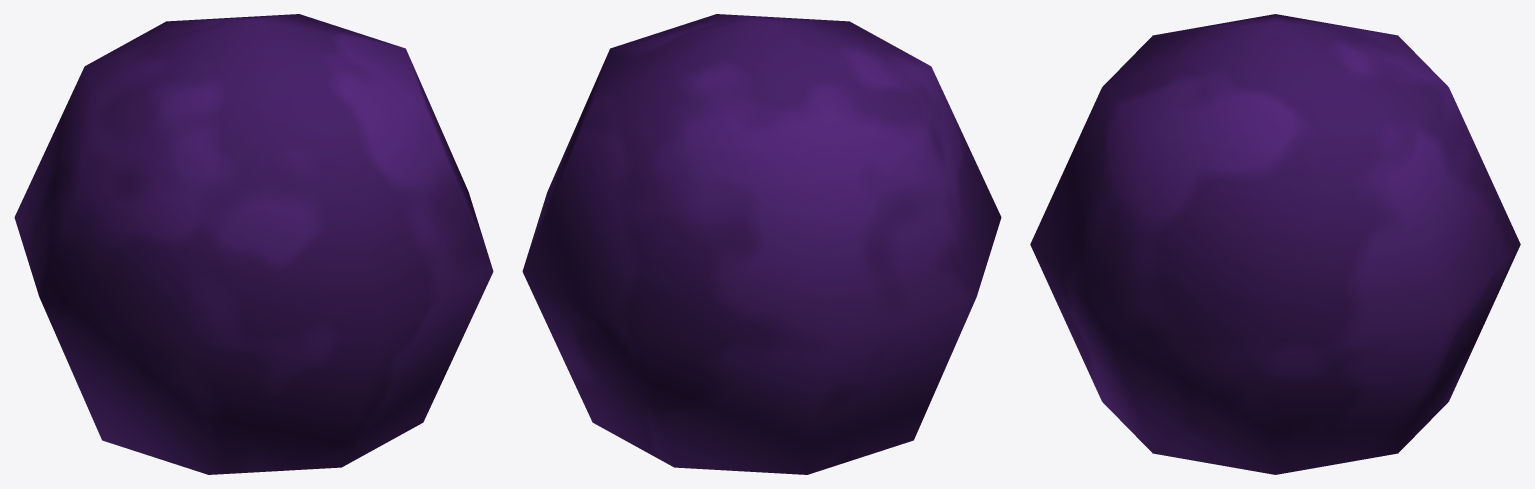
The model's file is grapesolo.glb.
3 views of the same model, side by side, from view 1: azimuth 30°, elevation 25°; view 2: azimuth 150°, elevation 25°; view 3: azimuth 270°, elevation 25° (orthographic).
Parts seen in each view (by area): view 1: grapesolo; view 2: grapesolo; view 3: grapesolo.
Boxes of the visible parts, left/top/right/bottom form: grapesolo: left=14, top=14, right=493, bottom=474; grapesolo: left=522, top=14, right=1001, bottom=474; grapesolo: left=1030, top=14, right=1520, bottom=474.
Bounding box in the file's own units: 0.3783 × 0.3783 × 0.3783.
1 material, 1 textured.
